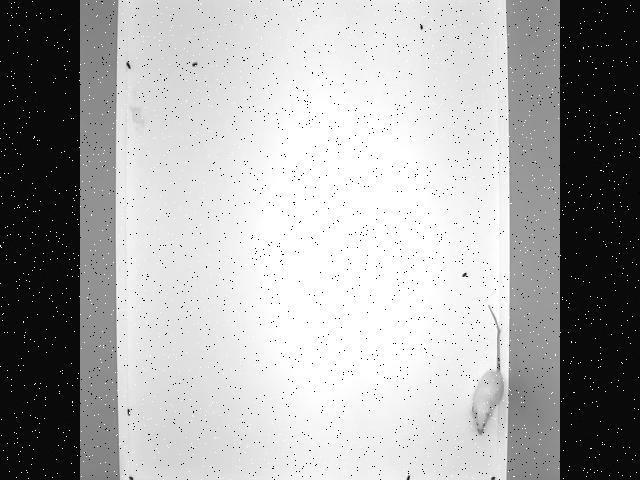Tikus: (471, 302, 503, 434)
